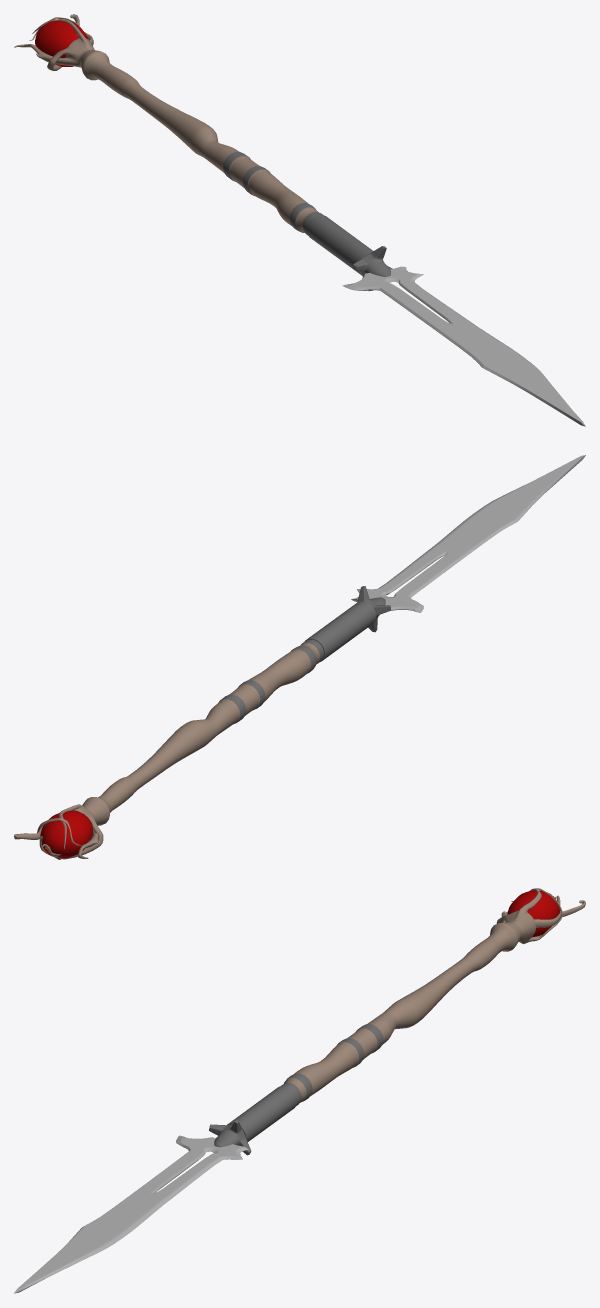
The model's file is Staff.fbx.
3 views of the same model, one above another, from view 1: azimuth 30°, elevation 25°; view 2: azimuth 150°, elevation 25°; view 3: azimuth 330°, elevation 25° (orthographic).
Visible parts, largest first — view 1: StaffM, BladeM, CrystalM; view 2: StaffM, BladeM, CrystalM; view 3: StaffM, BladeM, CrystalM.
Boxes of the visible parts, bbox=[...] form: StaffM: bbox=[14, 14, 392, 291]; BladeM: bbox=[342, 266, 585, 426]; CrystalM: bbox=[35, 19, 87, 66]; StaffM: bbox=[14, 586, 390, 859]; BladeM: bbox=[351, 455, 585, 612]; CrystalM: bbox=[40, 810, 92, 858]; StaffM: bbox=[209, 888, 585, 1159]; BladeM: bbox=[14, 1135, 248, 1293]; CrystalM: bbox=[507, 890, 559, 937].
Bounding box in the file's own units: 24.57 × 14.41 × 317.
